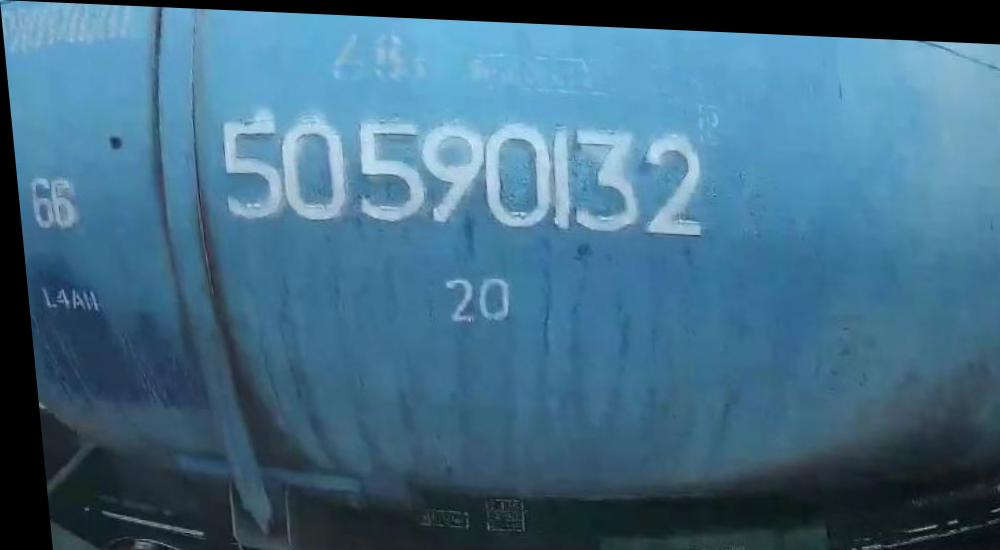Wagon-number: (207, 102, 711, 244)
